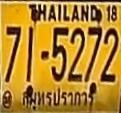1: (27, 26, 34, 82)
2: (100, 27, 121, 81), (67, 27, 86, 81)
5: (51, 27, 69, 81)
7: (85, 26, 103, 81), (6, 26, 22, 84)
SPK: (19, 90, 95, 110)
